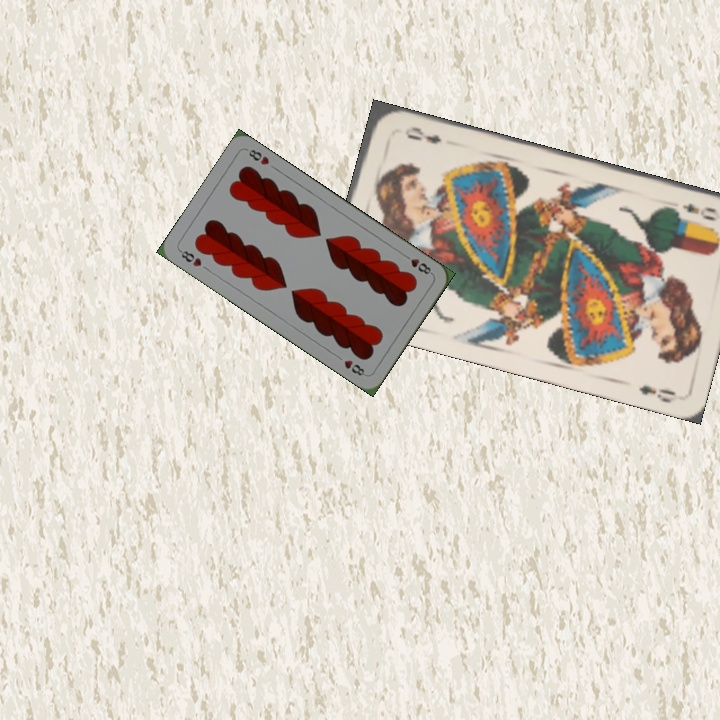EO: (677, 199, 719, 224)
H8: (399, 250, 435, 277), (175, 246, 204, 269)
